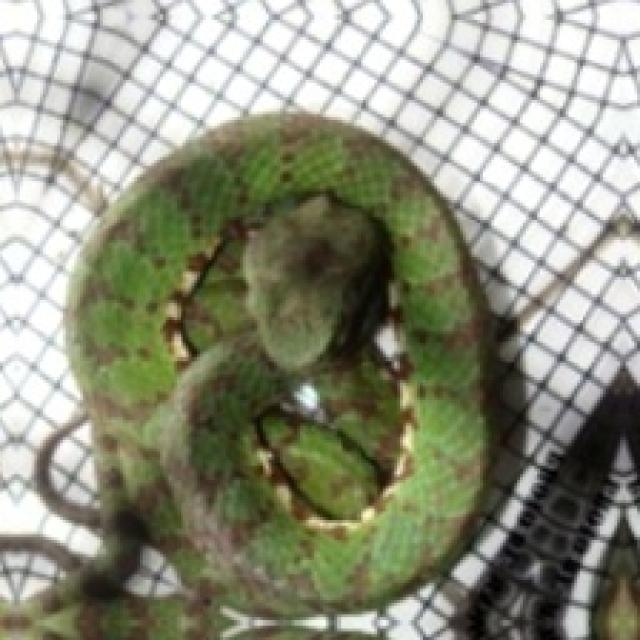philippine pitviper: (26, 114, 500, 637), (43, 114, 489, 637)
